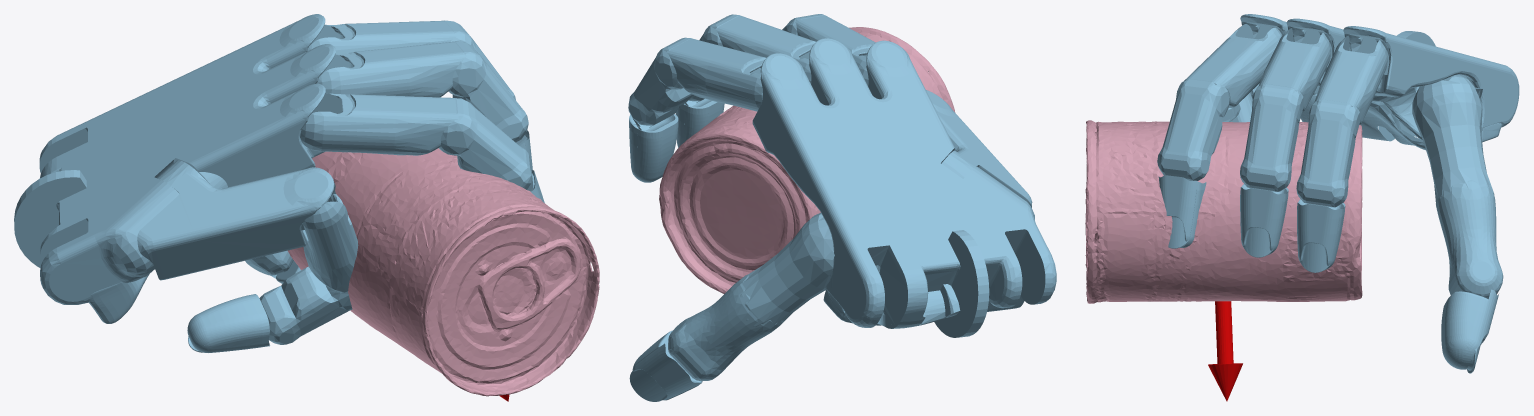
The picture shows the model from 3 angles, left to right: view 1: azimuth 30°, elevation 25°; view 2: azimuth 150°, elevation 25°; view 3: azimuth 270°, elevation 25°; orthographic projection. The views are drawn at different scales.
Parts seen in each view (by area): view 1: world, tomato_soup_can.stl; view 2: world, tomato_soup_can.stl; view 3: world, tomato_soup_can.stl.
Boxes of the visible parts, bbox=[...] form: world: bbox=[14, 14, 544, 401]; tomato_soup_can.stl: bbox=[288, 148, 599, 396]; world: bbox=[628, 14, 1056, 401]; tomato_soup_can.stl: bbox=[659, 27, 955, 293]; world: bbox=[1157, 14, 1519, 401]; tomato_soup_can.stl: bbox=[1085, 120, 1362, 303].
Size of the model in its own units: 0.1783 by 0.1318 by 0.1596.
